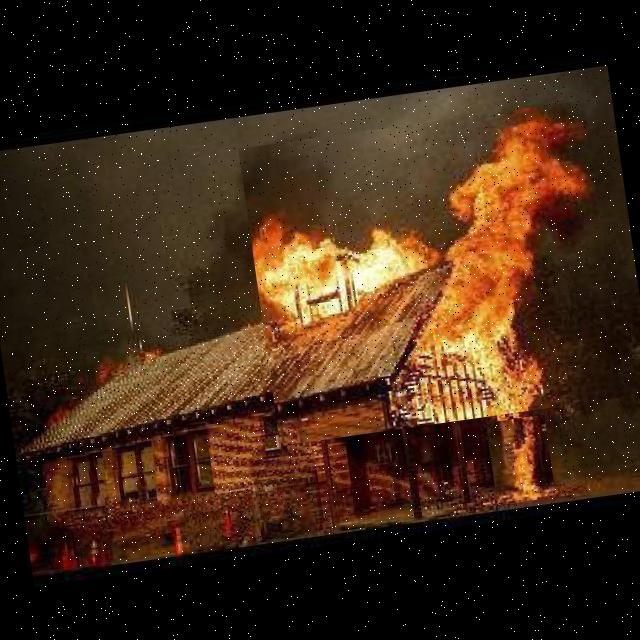fire: (238, 100, 626, 446), (486, 415, 556, 506)
